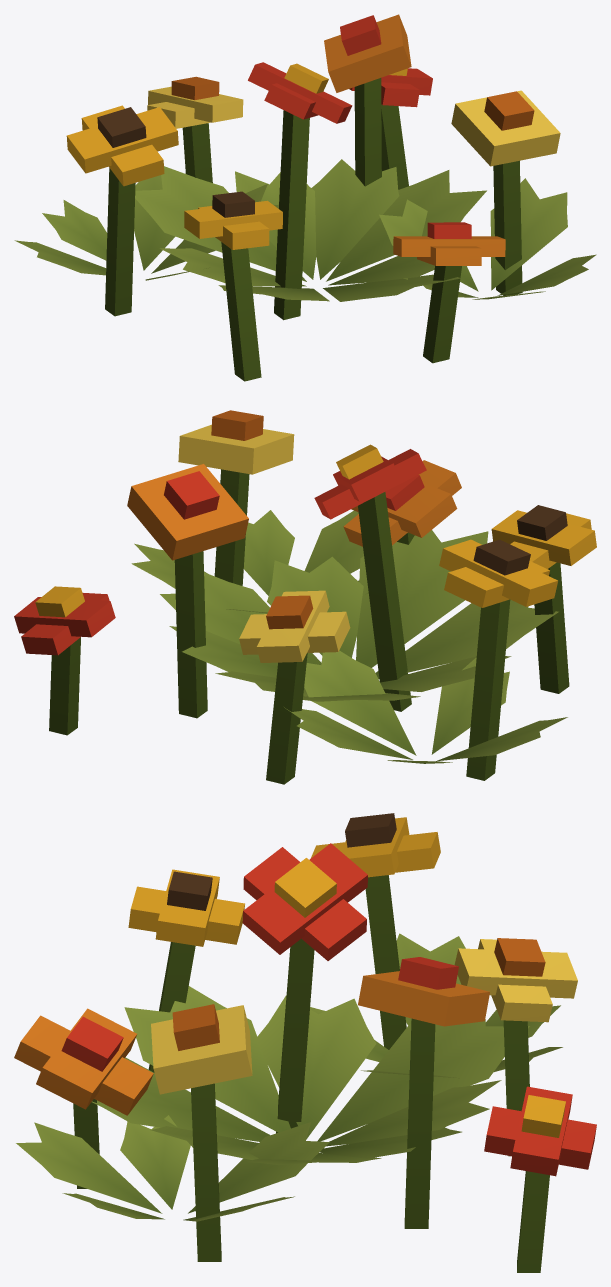
File: flowers_b.glb
The picture shows the model from 3 angles, top to bottom: view 1: azimuth 30°, elevation 25°; view 2: azimuth 150°, elevation 25°; view 3: azimuth 270°, elevation 25°; orthographic projection. The views are drawn at different scales.
Visible parts, largest first — view 1: flowers_b; view 2: flowers_b; view 3: flowers_b.
Boxes of the visible parts, x1=… form: flowers_b: x1=14, y1=14, x2=596, y2=381; flowers_b: x1=14, y1=410, x2=596, y2=784; flowers_b: x1=14, y1=813, x2=596, y2=1272.
Size of the model in its own units: 1.52 by 0.7493 by 1.35.
